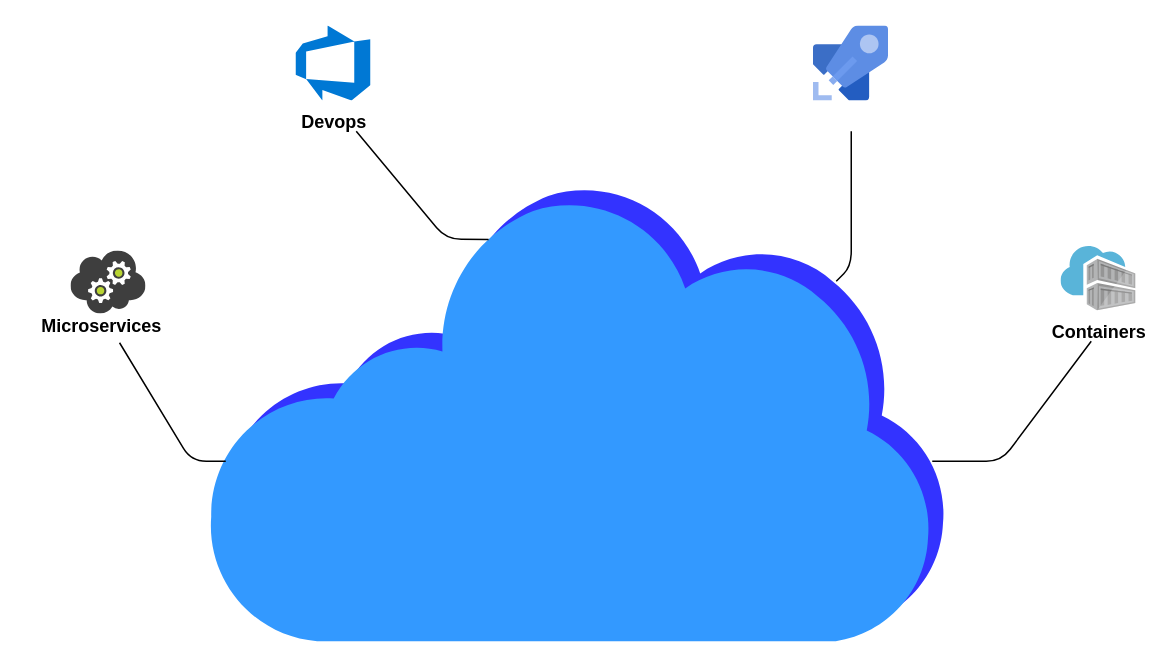
The diagram is 1172 pixels wide and 666 high, and some of its shapes have lost their labels. Each missing label, with the centre of its shape:
"CI/CD" goes at point 850,63.
"Cloud-Native UIH" goes at point 568,415.
